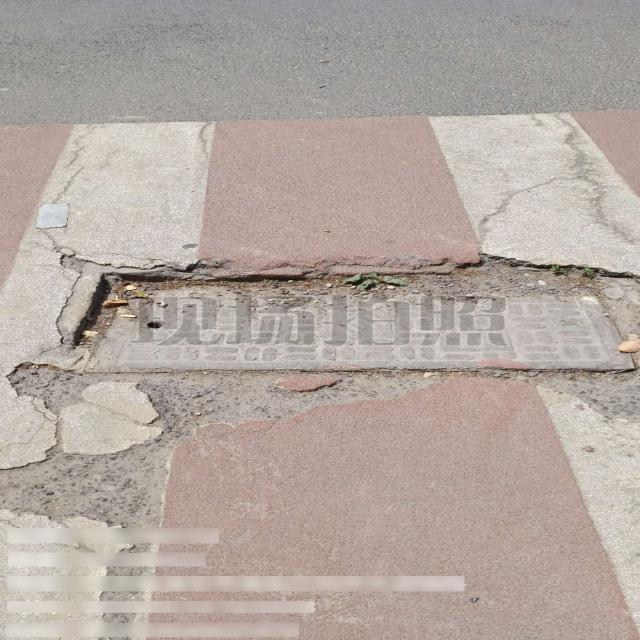Broken: (53, 266, 639, 379)
